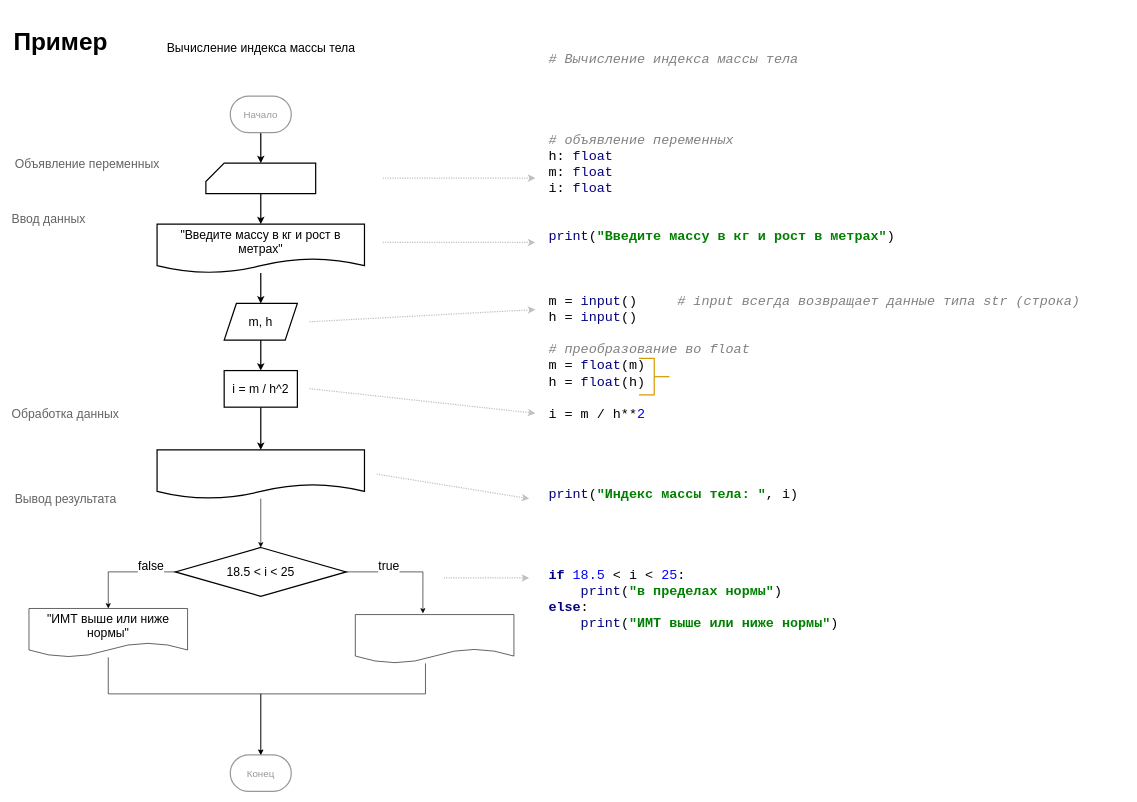
The diagram is 1137 pixels wide and 802 high, and some of its shapes have lost their labels. Each missing label, with the box of its shape:
"в пределах нормы": (355, 614, 514, 663)
"Индекс массы тела: ", i: (156, 449, 365, 499)
h,m, i: float: (205, 162, 316, 194)
добавлено: (638, 357, 670, 395)
